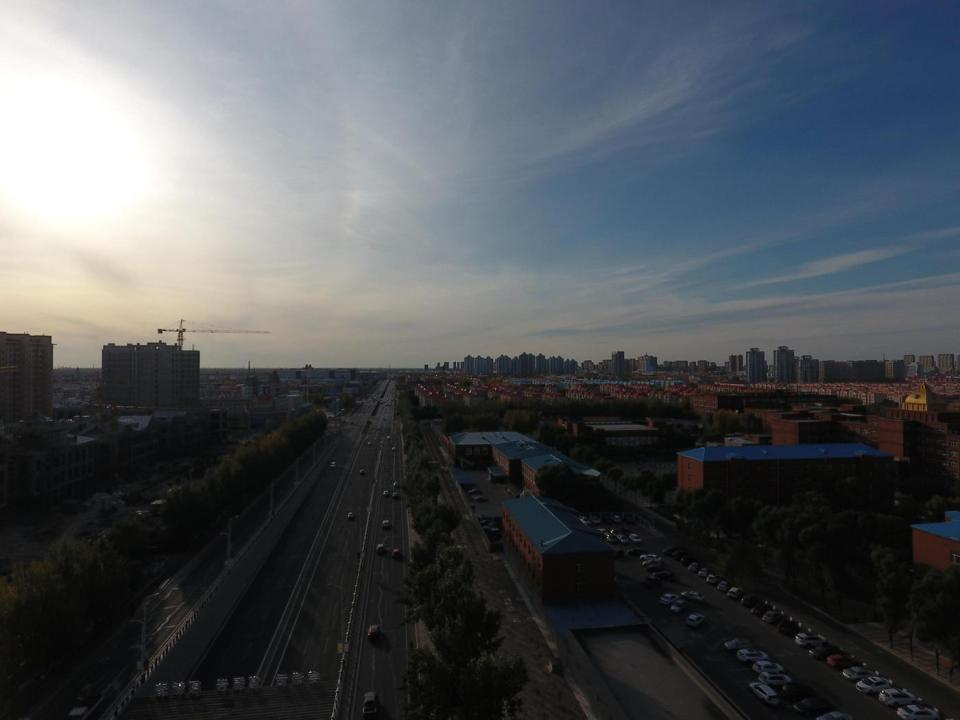car: (748, 680, 782, 706), (778, 682, 816, 703), (793, 697, 837, 715), (877, 687, 921, 705), (855, 676, 893, 694), (897, 704, 934, 719), (737, 648, 770, 664), (807, 643, 840, 659), (360, 691, 379, 717), (751, 660, 786, 674), (794, 634, 829, 648), (758, 674, 792, 687), (679, 588, 706, 604), (724, 638, 754, 652), (842, 668, 876, 680), (775, 621, 799, 636), (685, 612, 706, 629), (827, 655, 856, 667), (817, 712, 855, 720), (641, 575, 662, 589), (659, 592, 680, 606), (669, 598, 690, 612), (650, 569, 675, 580), (762, 610, 783, 623), (367, 622, 382, 640), (669, 547, 692, 558), (751, 603, 770, 616), (679, 553, 701, 564), (716, 579, 734, 592), (727, 586, 745, 599), (662, 544, 682, 555), (706, 572, 724, 584), (686, 560, 702, 573), (639, 553, 662, 562), (740, 595, 758, 606), (642, 564, 666, 572), (615, 532, 629, 545), (639, 559, 663, 566), (698, 566, 712, 578), (628, 533, 644, 543), (579, 515, 592, 527), (602, 532, 616, 543), (627, 548, 649, 555), (478, 520, 496, 527), (610, 513, 622, 523), (595, 527, 608, 536), (590, 514, 601, 524), (391, 548, 401, 558), (376, 543, 385, 554), (381, 519, 391, 528), (468, 488, 483, 494), (390, 491, 399, 500), (474, 496, 489, 501), (346, 511, 354, 520), (392, 480, 400, 488), (381, 490, 390, 497), (328, 461, 337, 468), (359, 468, 366, 476), (390, 445, 396, 451), (367, 441, 373, 446), (384, 436, 392, 439)
truck: (66, 694, 103, 720)
